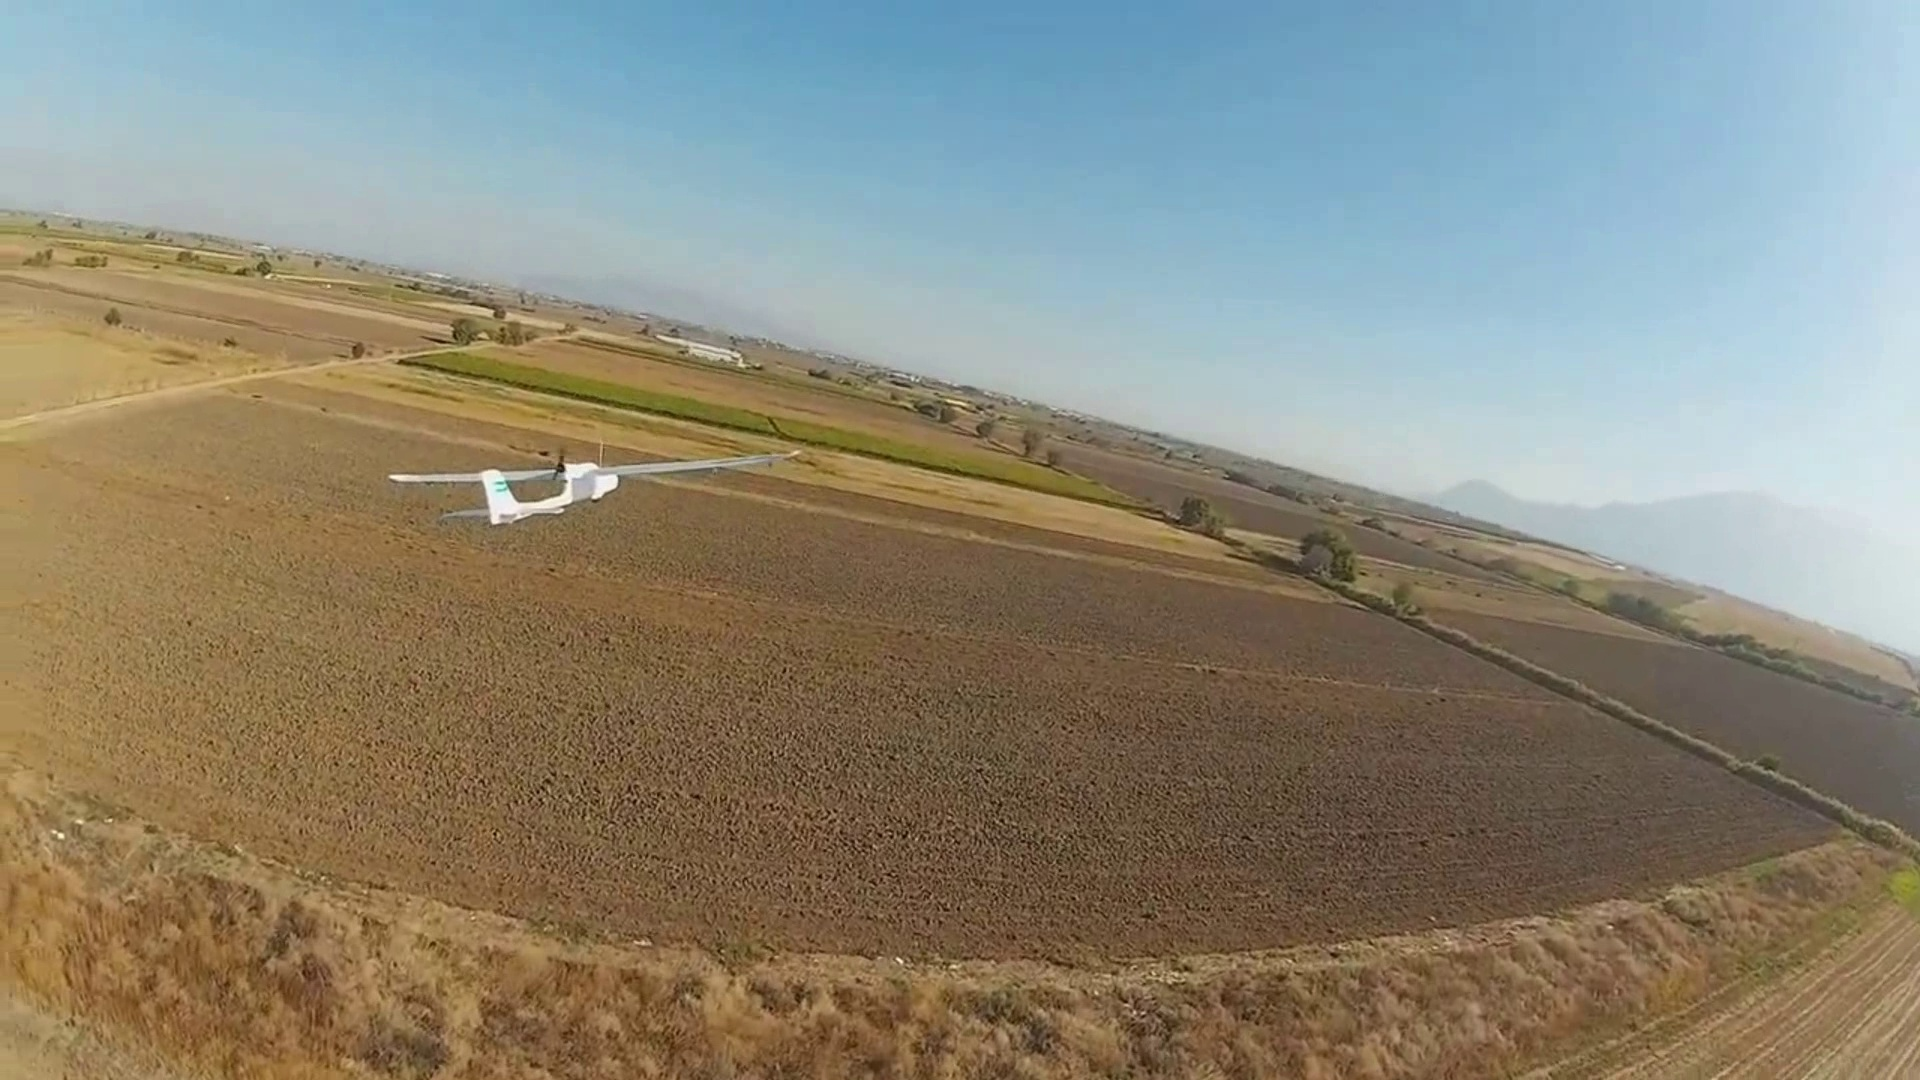airplane: (385, 456, 620, 524)
